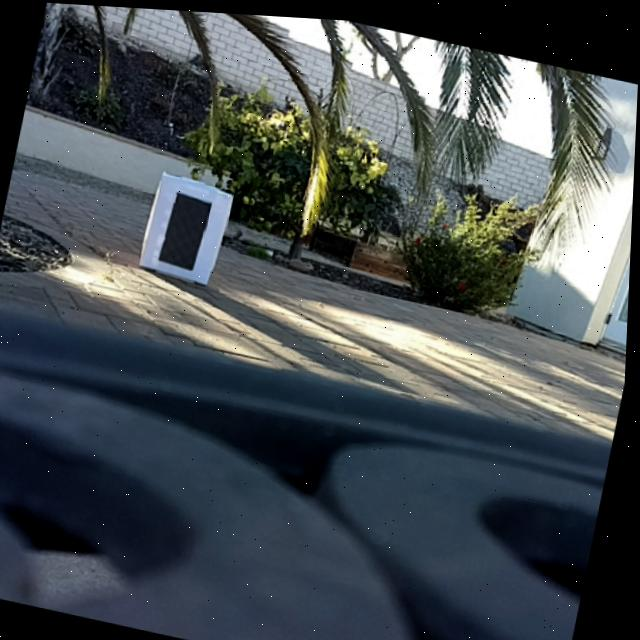led: (161, 188, 214, 269)
